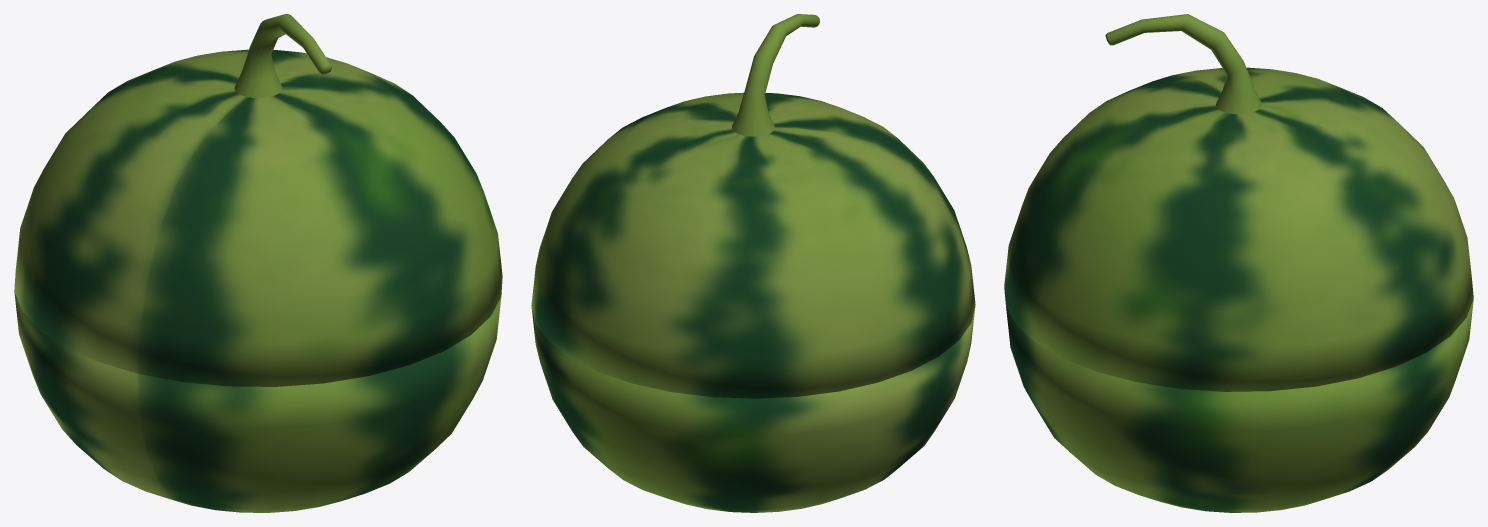
File: WatermelonSplit.fbx
The picture shows the model from 3 angles, left to right: view 1: azimuth 30°, elevation 25°; view 2: azimuth 150°, elevation 25°; view 3: azimuth 270°, elevation 25°; orthographic projection. The views are drawn at different scales.
Visible parts, largest first — view 1: Watermelon.001, Watermelon.002; view 2: Watermelon.001, Watermelon.002; view 3: Watermelon.001, Watermelon.002.
Part boxes in pixels (box(x1,y1,x2,y2)): Watermelon.001: box(14, 14, 502, 386); Watermelon.002: box(14, 292, 501, 512); Watermelon.001: box(531, 14, 975, 398); Watermelon.002: box(531, 306, 975, 512); Watermelon.001: box(1004, 14, 1473, 391); Watermelon.002: box(1006, 299, 1473, 512).
Size of the model in its own units: 561 by 605 by 561.
Materials: 2 (2 with a texture image).
